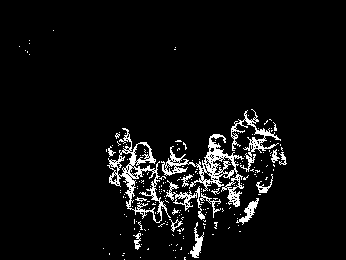person: (193, 133, 235, 259), (159, 140, 201, 258), (249, 117, 286, 221), (128, 139, 162, 249), (233, 107, 257, 186), (105, 126, 131, 188)
